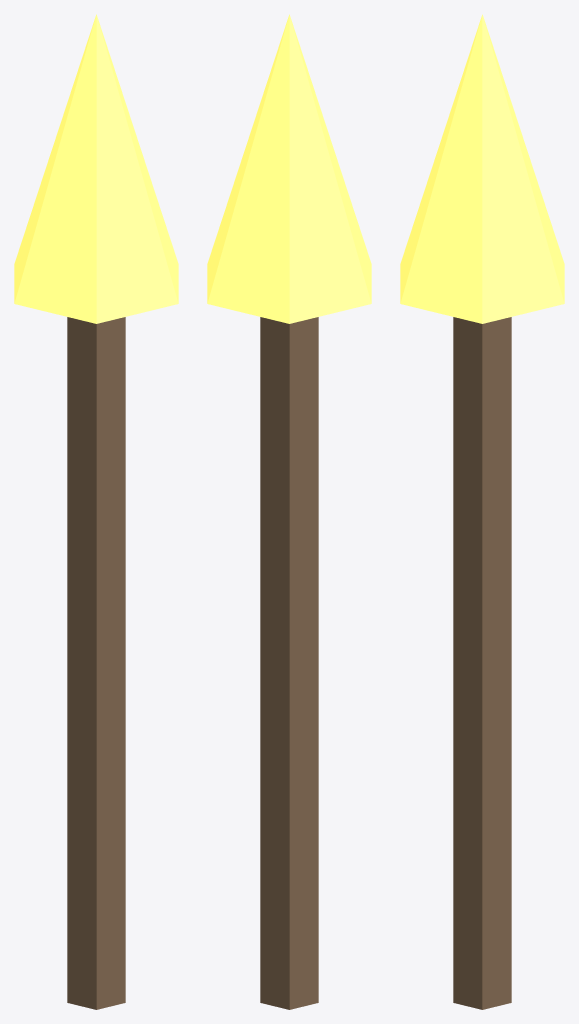
Rendered from item_torch.glb.
The picture shows the model from 3 angles, left to right: view 1: azimuth 30°, elevation 25°; view 2: azimuth 150°, elevation 25°; view 3: azimuth 270°, elevation 25°; orthographic projection.
Parts seen in each view (by area): view 1: handle, flame; view 2: handle, flame; view 3: handle, flame.
Part boxes in pixels (x1,y1,x2,y2): handle: (67,317,125,1009); flame: (14,14,178,323); handle: (260,317,318,1009); flame: (207,14,371,323); handle: (453,317,511,1009); flame: (400,14,564,323).
Size of the model in its own units: 0.14 by 0.8 by 0.1212.
